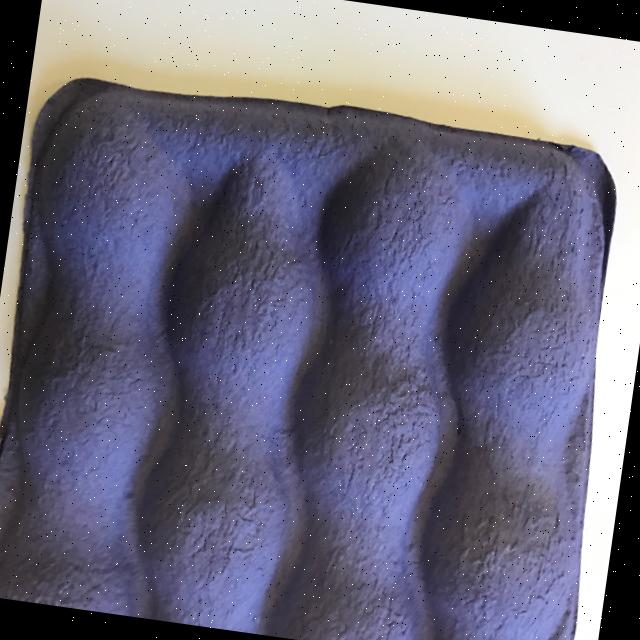paper: (0, 61, 640, 640)
